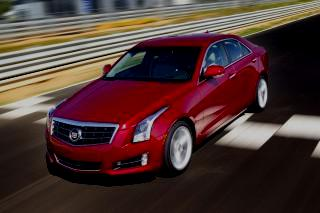cadillac: (67, 127, 84, 142)
